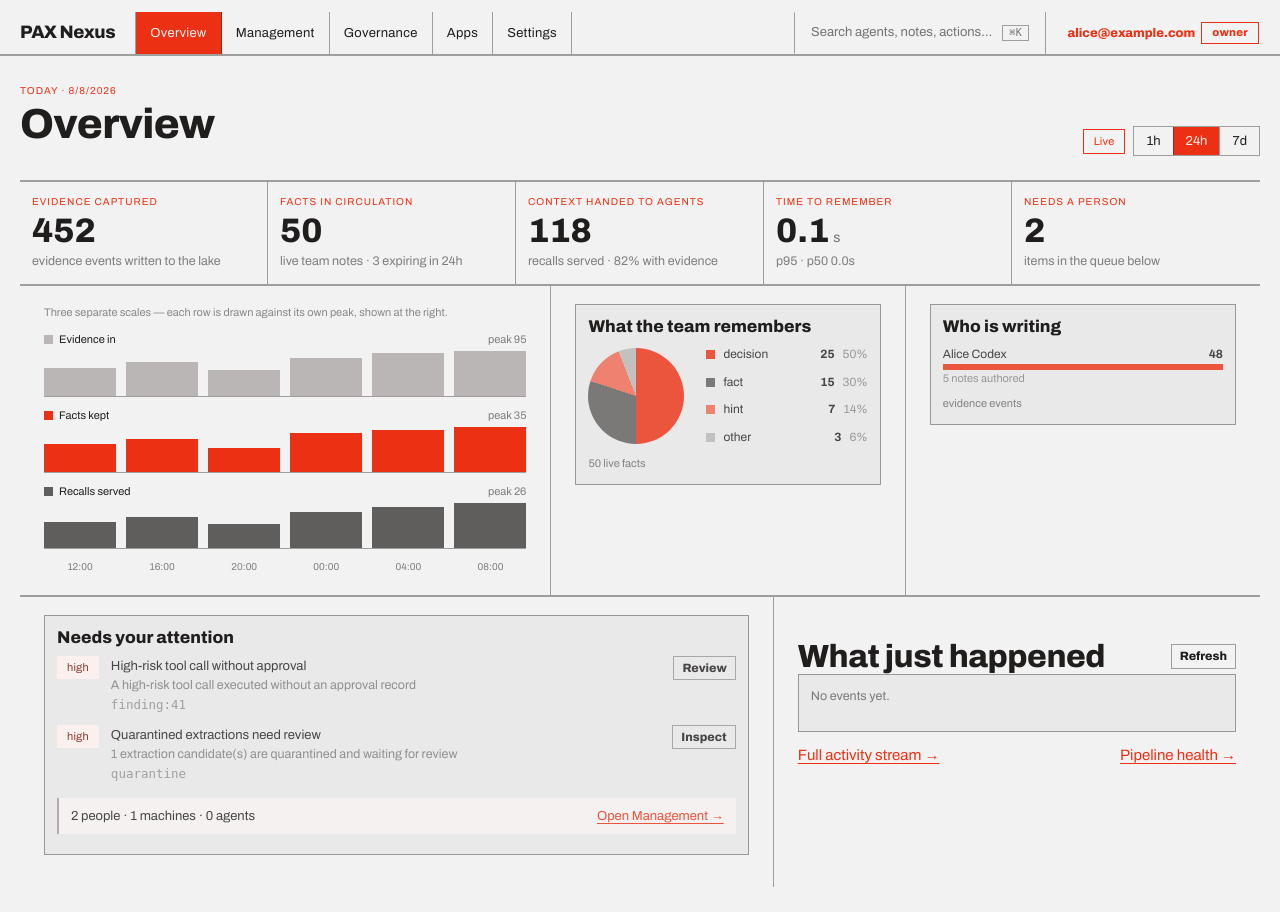
OverviewPage › renders attention items and navigates on the CTA
Expected: the heading "Overview" is shown, top-left (20, 101), bottom-right (214, 148)
Expected: the text with class "tag-attention" next to "High-risk tool call without approval" is shown, top-left (57, 656), bottom-right (99, 679)
Click the button "Review": (705, 668) top-left (673, 656), bottom-right (736, 680)
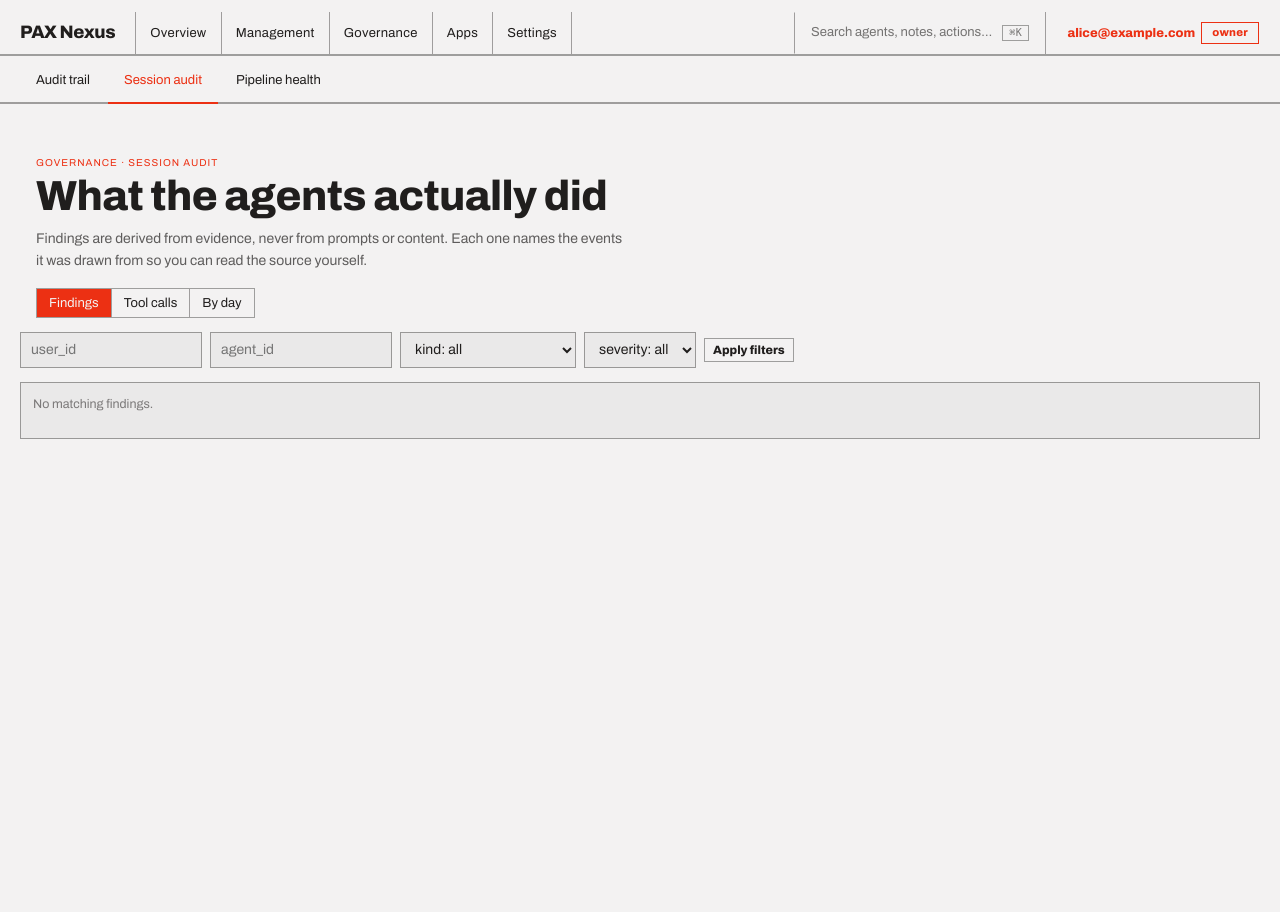
Expected: the heading "What the agents actually did" is shown, top-left (36, 173), bottom-right (630, 220)
